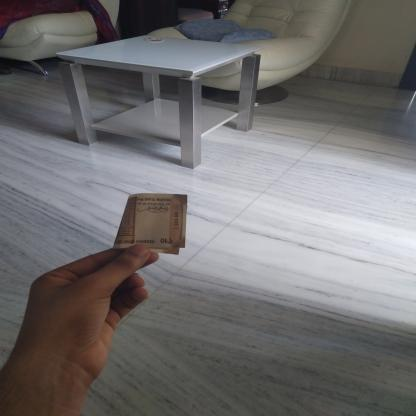New10Back: (120, 196, 188, 248)
